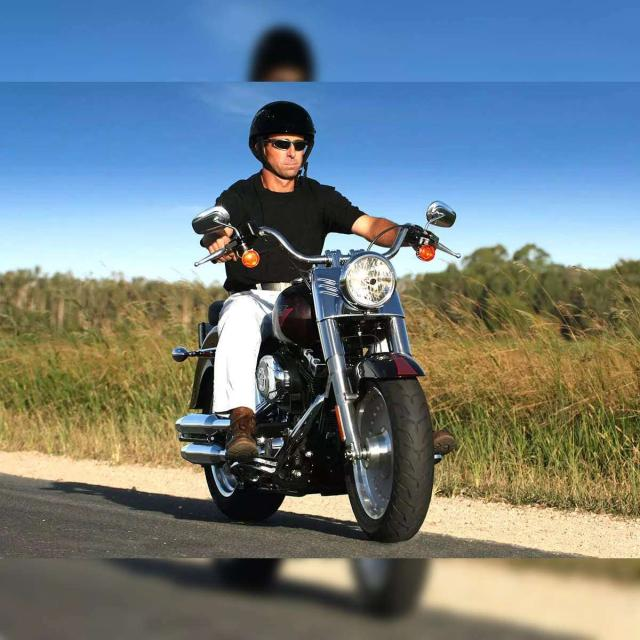motorcycle: (172, 101, 457, 542)
